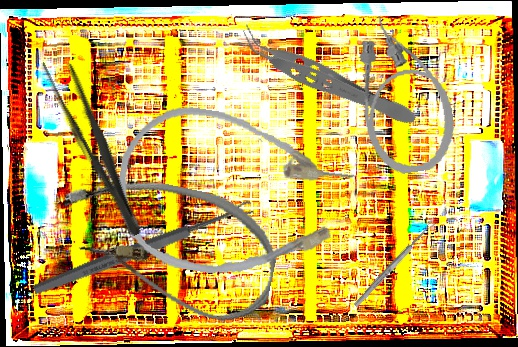Cannula: (106, 97, 363, 294), (47, 164, 287, 329), (349, 6, 461, 179)
Dressing Forceps: (36, 50, 154, 242)
Surgical Spoon: (31, 199, 255, 298), (353, 219, 436, 309)
Tissue Forceps: (233, 23, 422, 134)
